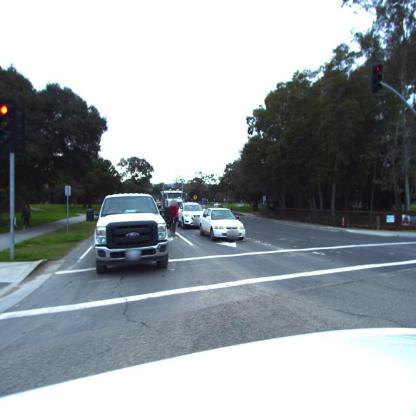car: (199, 208, 246, 242), (176, 202, 203, 229)
person: (22, 204, 31, 228)
traffic light: (1, 104, 17, 149), (372, 64, 384, 95)
truck: (94, 194, 171, 274)
